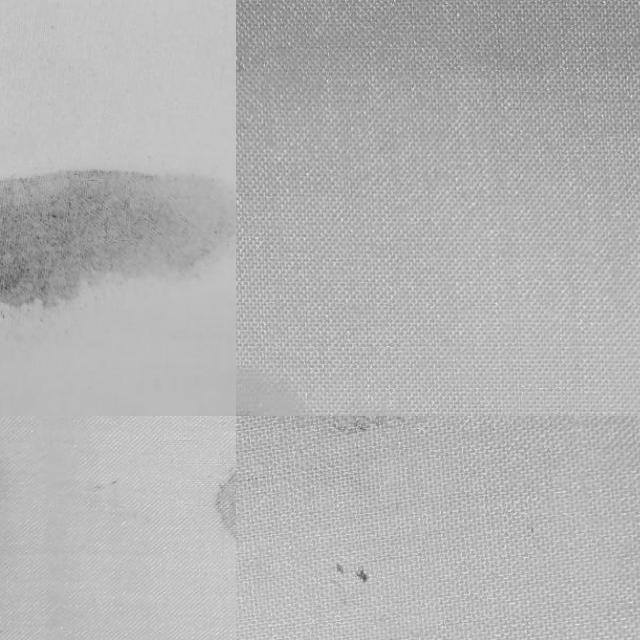Hole: (0, 149, 236, 331), (281, 519, 473, 640), (177, 416, 236, 589)
